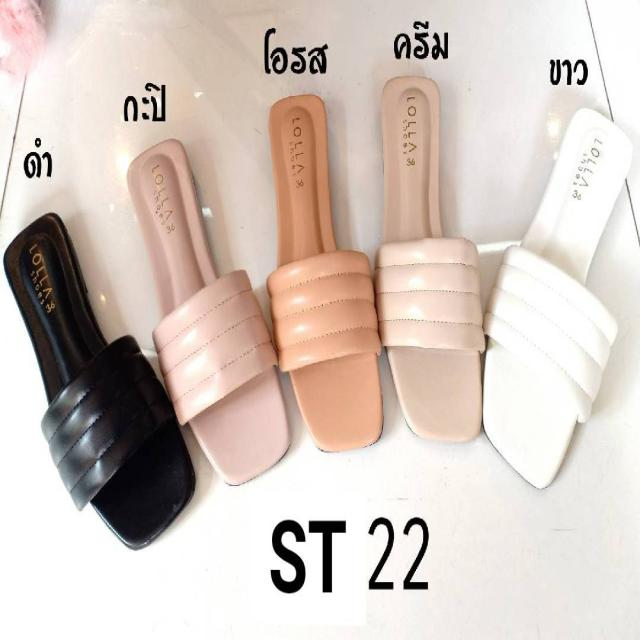black: (6, 216, 191, 549)
cream: (384, 76, 483, 441)
kapi: (126, 146, 286, 486)
orot: (265, 96, 383, 452)
white: (481, 106, 630, 487)
